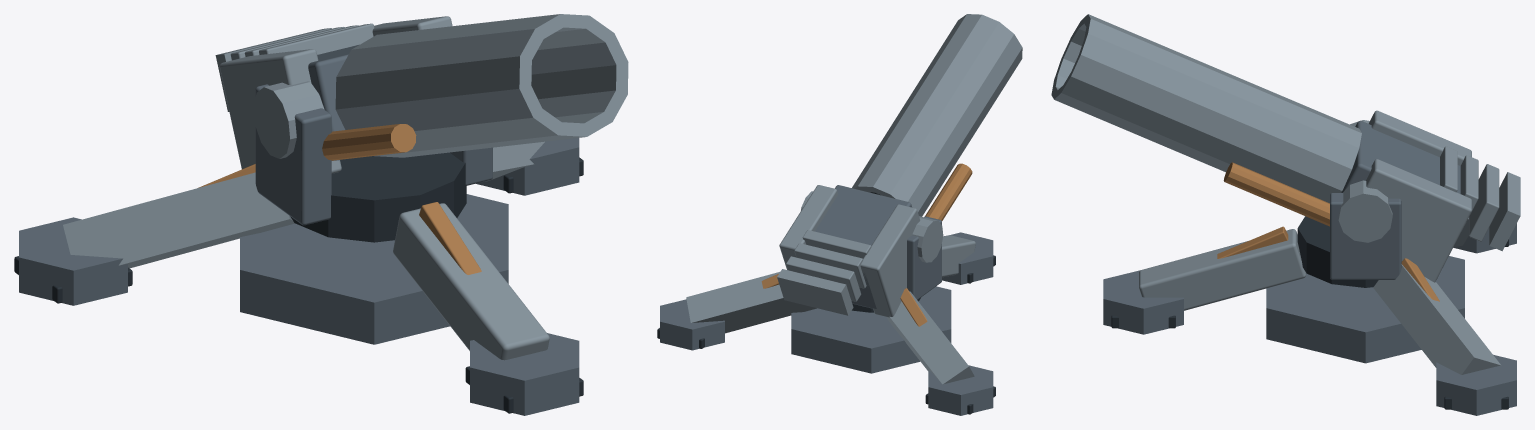
The model's file is howitzer_t3_d0.meshopt.glb.
3 views of the same model, side by side, from view 1: azimuth 30°, elevation 25°; view 2: azimuth 150°, elevation 25°; view 3: azimuth 270°, elevation 25° (orthographic). The views are drawn at different scales.
Parts seen in each view (by area): view 1: BASE_ARMOR_GEOMETRY, RECOIL_ARMOR_GEOMETRY, YAW_ARMOR_GEOMETRY; view 2: RECOIL_ARMOR_GEOMETRY, BASE_ARMOR_GEOMETRY, YAW_ARMOR_GEOMETRY; view 3: RECOIL_ARMOR_GEOMETRY, BASE_ARMOR_GEOMETRY, YAW_ARMOR_GEOMETRY.
Part boxes in pixels (x1=…): BASE_ARMOR_GEOMETRY: x1=14, y1=138, x2=583, y2=415; RECOIL_ARMOR_GEOMETRY: x1=215, y1=14, x2=628, y2=173; YAW_ARMOR_GEOMETRY: x1=255, y1=84, x2=492, y2=242; RECOIL_ARMOR_GEOMETRY: x1=777, y1=14, x2=1022, y2=317; BASE_ARMOR_GEOMETRY: x1=657, y1=232, x2=995, y2=415; YAW_ARMOR_GEOMETRY: x1=852, y1=216, x2=941, y2=312; RECOIL_ARMOR_GEOMETRY: x1=1051, y1=14, x2=1520, y2=282; BASE_ARMOR_GEOMETRY: x1=1103, y1=218, x2=1516, y2=415; YAW_ARMOR_GEOMETRY: x1=1297, y1=193, x2=1401, y2=287.
Size of the model in its own units: 3.33 by 2.32 by 3.28.
